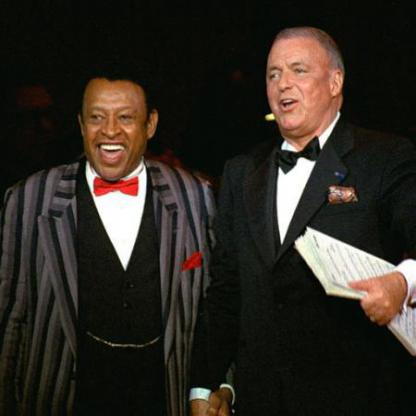face: (80, 66, 150, 183), (262, 28, 335, 135)
